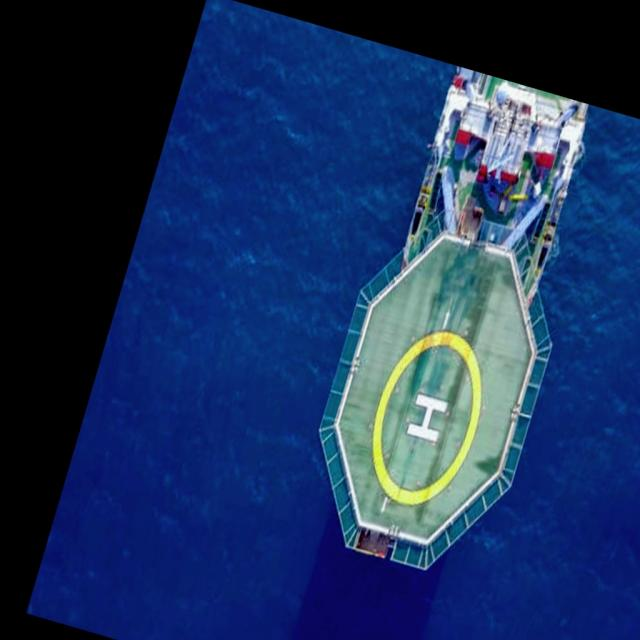helipad: (368, 325, 484, 508)
